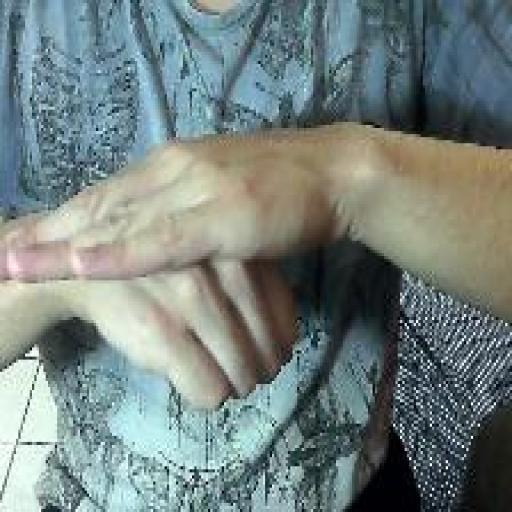Inu -dog-: (0, 130, 302, 419)
